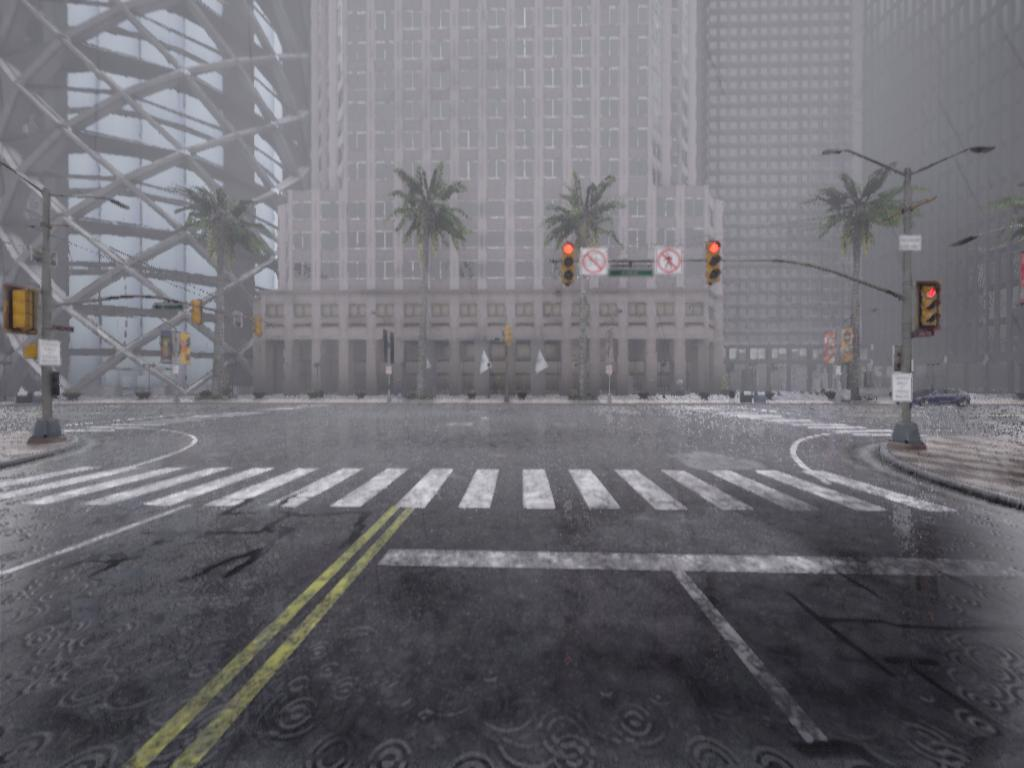traffic_light: (920, 285, 945, 335), (559, 239, 581, 288), (708, 242, 724, 287), (500, 323, 515, 349), (191, 301, 204, 327), (253, 313, 265, 340)
